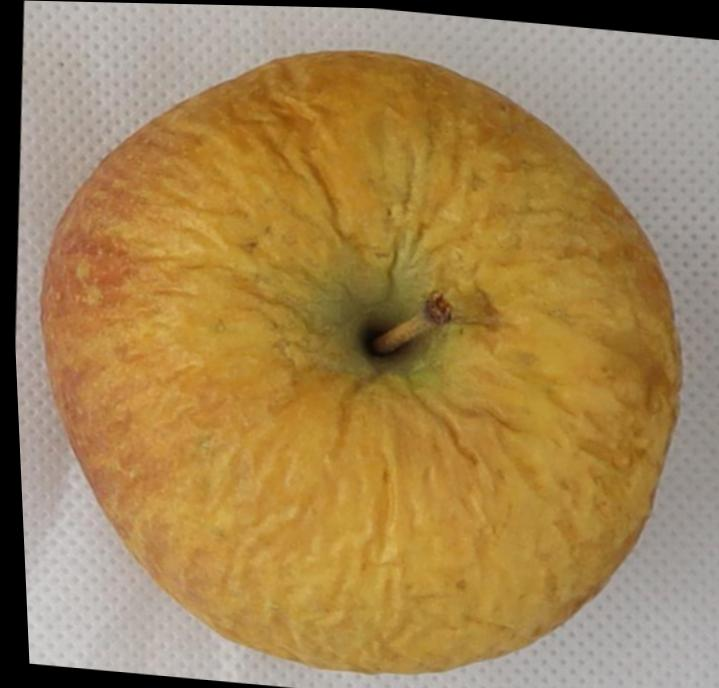apple: (41, 51, 680, 673)
rot_mold_decay: (41, 52, 679, 672)
